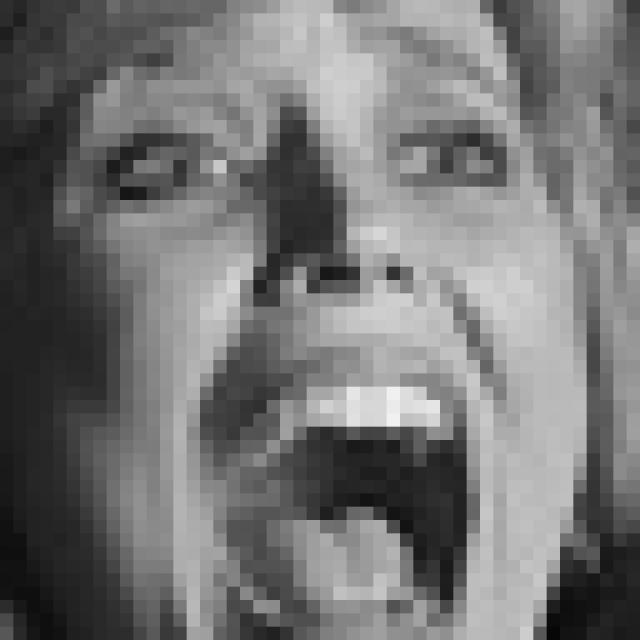fear: (92, 18, 526, 640)
